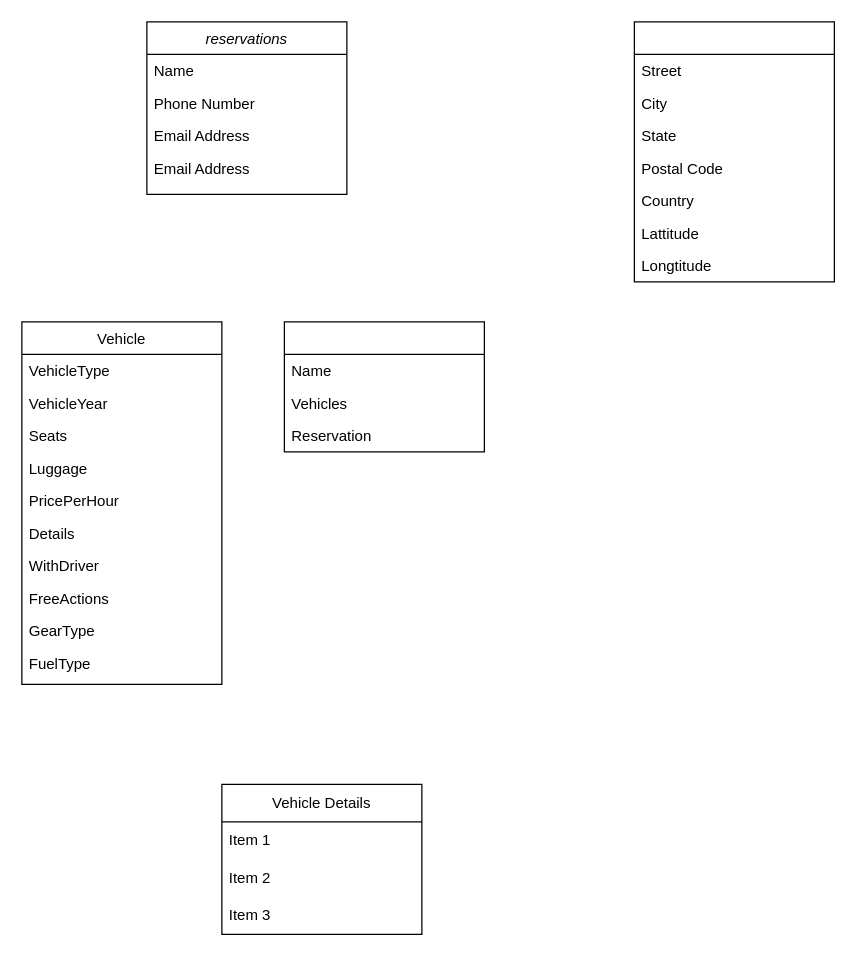
The diagram is 856 pixels wide and 956 high, and some of its shapes have lost their labels. Each missing label, with the box of its shape:
Address: (633, 21, 834, 282)
User: (283, 321, 484, 452)
